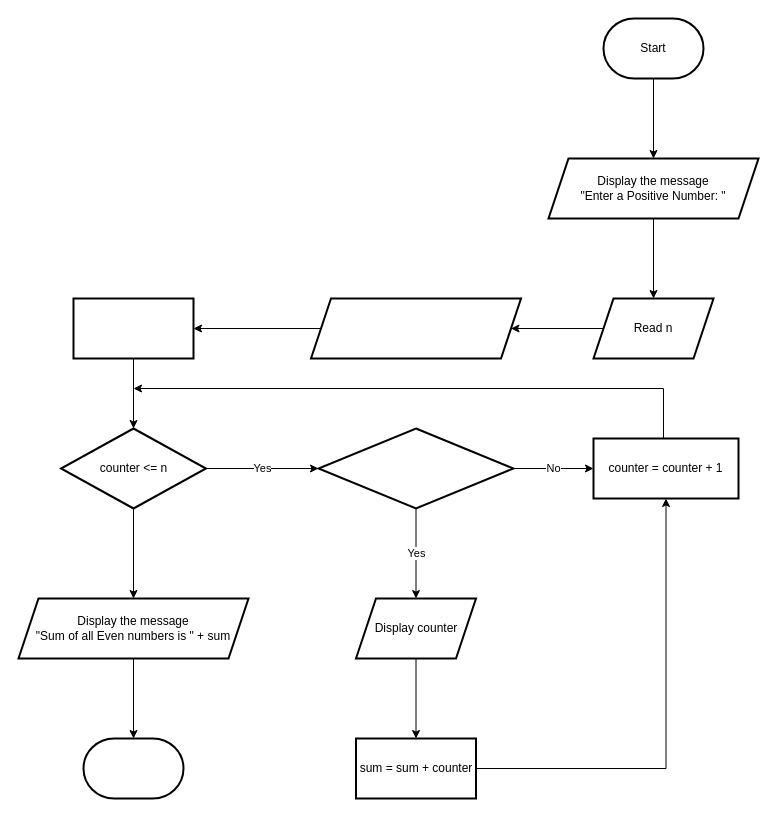
Some shapes in this 776 by 816 pixel diagram are drawn without their labels. Here are the shapes that lost their labels. From the top down, the centre of each, then its label:
[133,328]: sum = 0 counter = 1
[416,328]: Display the message "Even numbers from 1 to " + n
[415,468]: counter % 2 == 0
[133,768]: End
